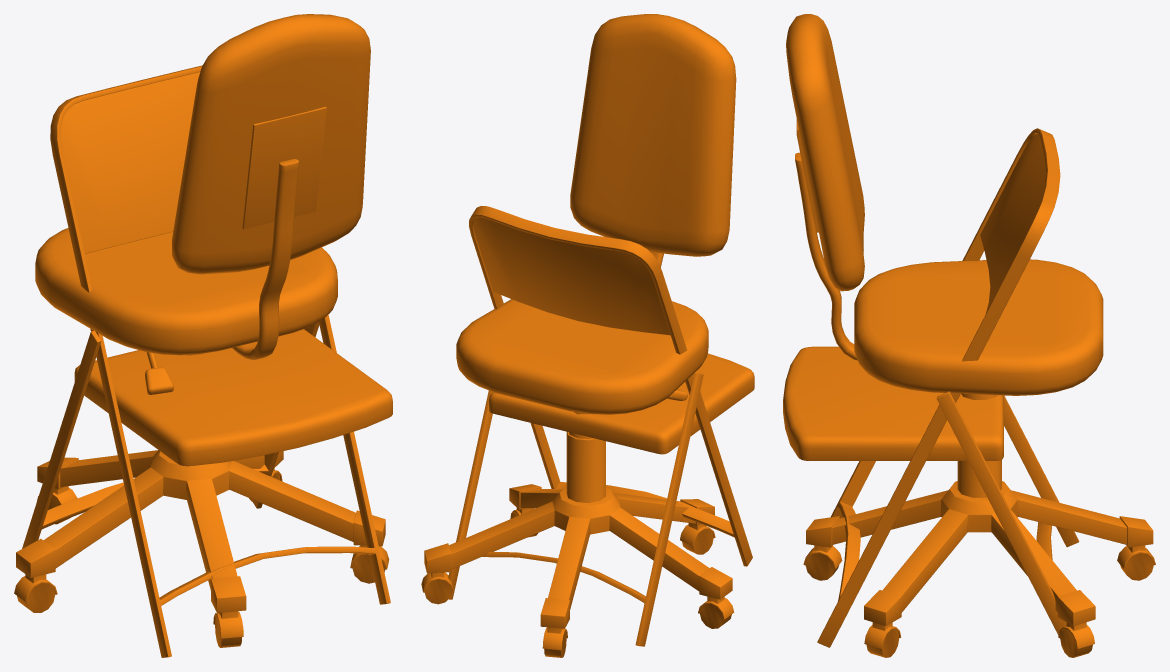
File: SM_Chairs.fbx
3 views of the same model, side by side, from view 1: azimuth 30°, elevation 25°; view 2: azimuth 150°, elevation 25°; view 3: azimuth 270°, elevation 25° (orthographic). The views are drawn at different scales.
Visible parts, largest first — view 1: Chair_Office_lp, Chair_Simple_lp; view 2: Chair_Office_lp, Chair_Simple_lp; view 3: Chair_Office_lp, Chair_Simple_lp.
Part boxes in pixels (x1,y1,x2,y2): Chair_Office_lp: [14, 14, 389, 647]; Chair_Simple_lp: [22, 65, 392, 657]; Chair_Office_lp: [421, 14, 736, 657]; Chair_Simple_lp: [447, 206, 754, 646]; Chair_Office_lp: [786, 14, 1155, 657]; Chair_Simple_lp: [783, 128, 1079, 647].
Bounding box in the file's own units: 7.08 × 13.33 × 7.88.
